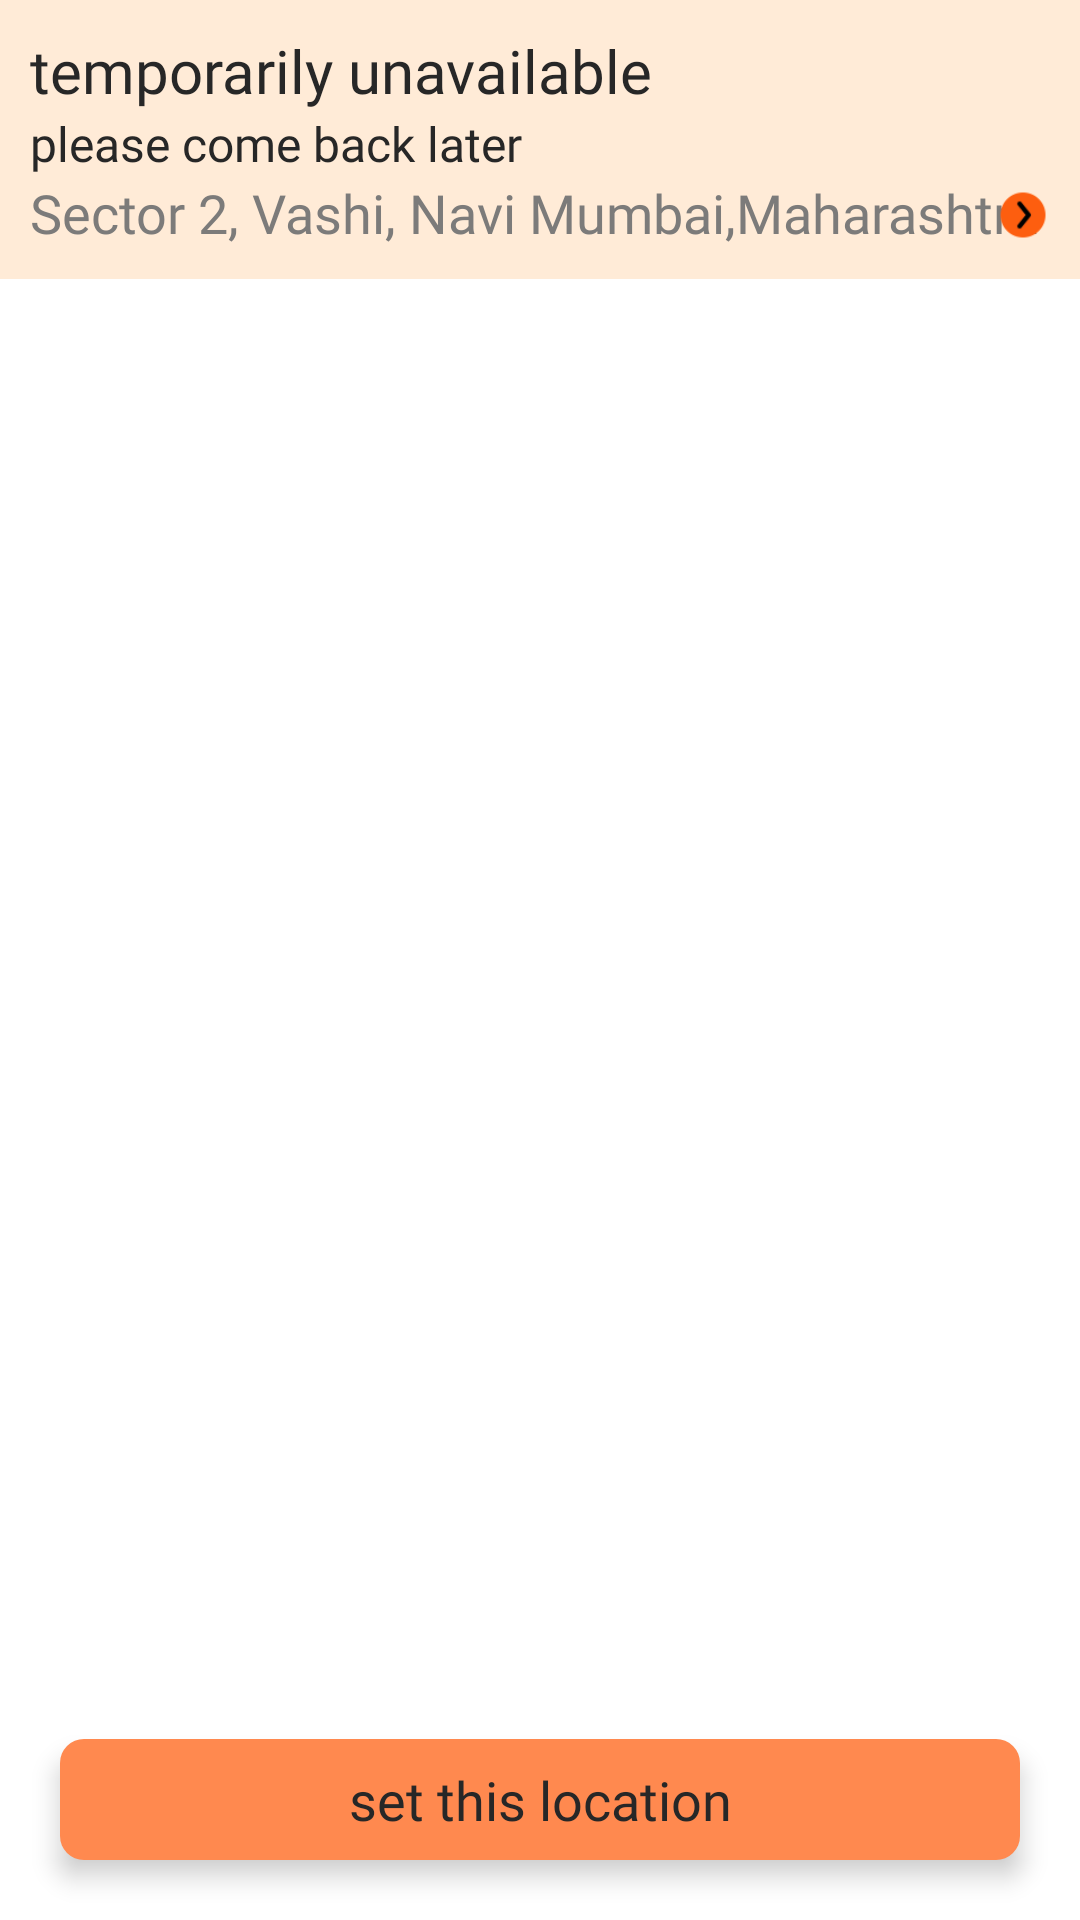

Screen size 1080*1920. Icon name, then its box in pixels as (x1, y1, x2, y2):
next: (996, 192, 1046, 238)
